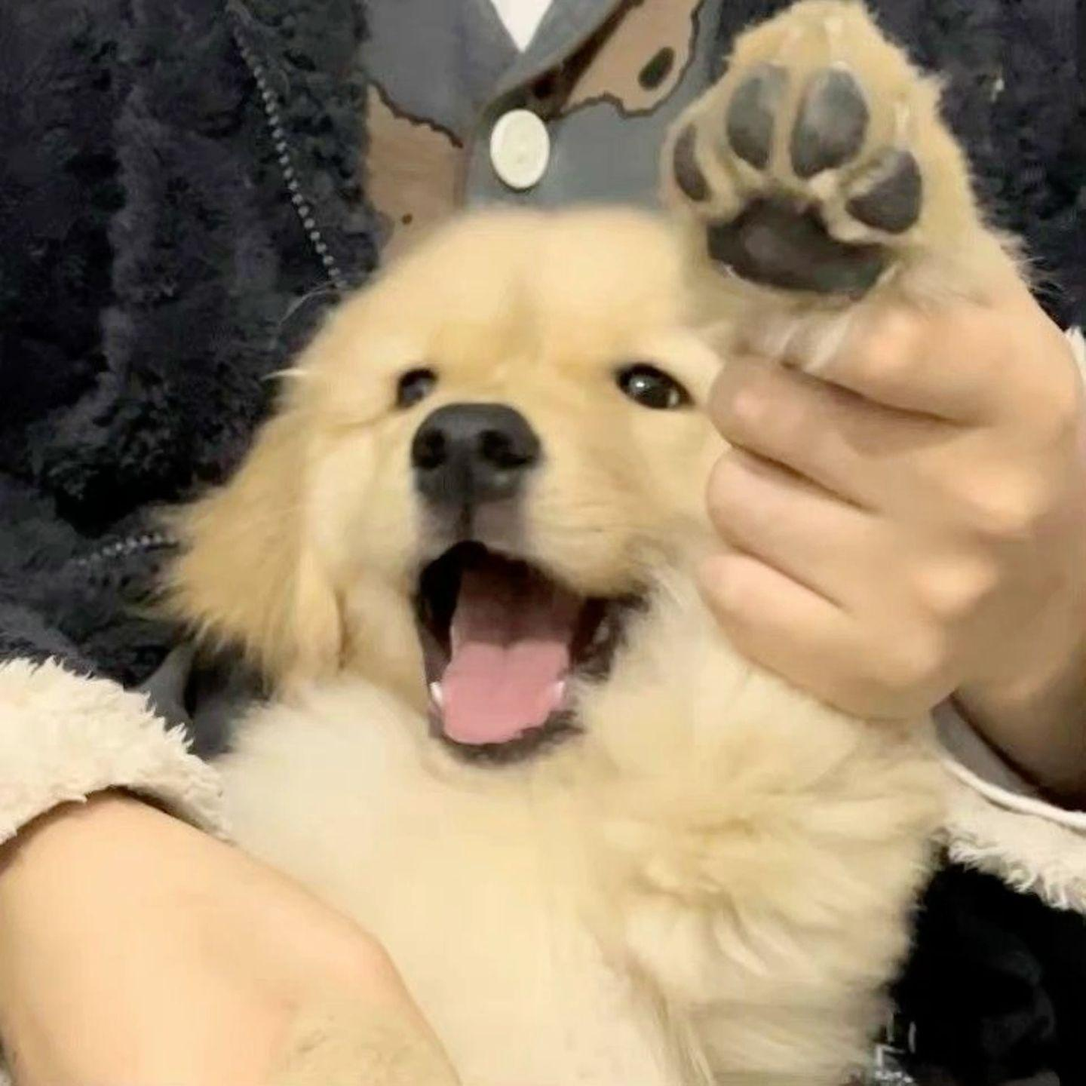puppy-dog: (130, 4, 1016, 1086)
